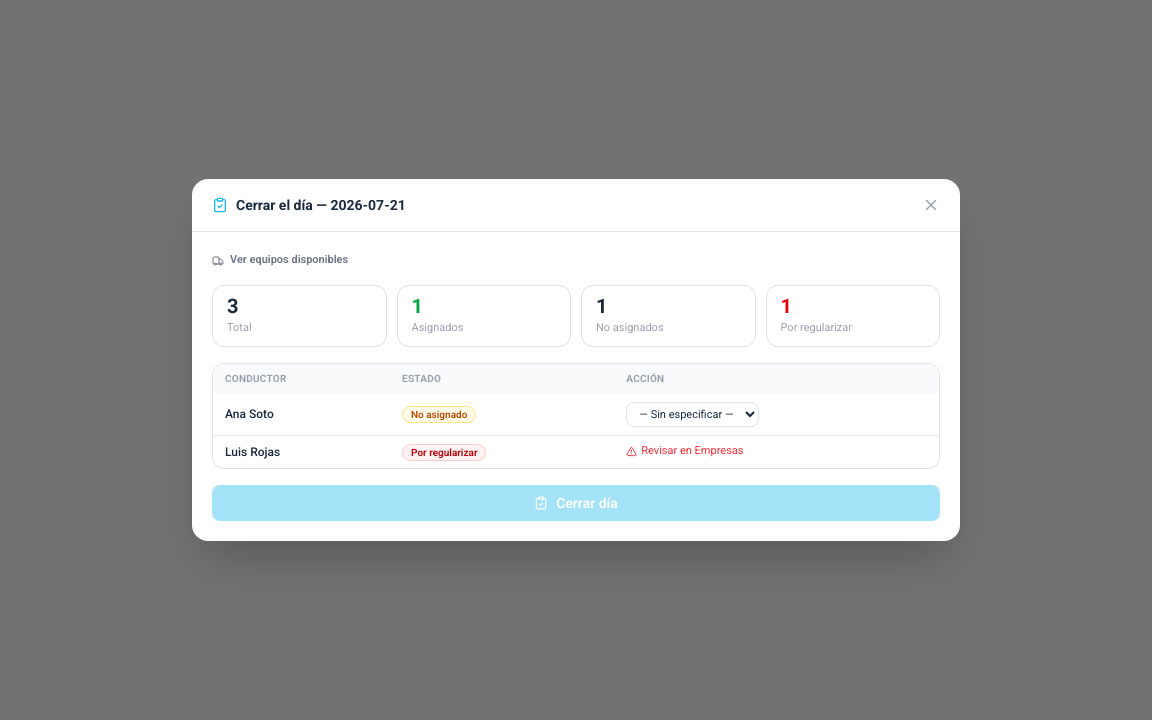
Test: CloseDayDialog › clickear la tile "Asignados" muestra el roster completo de asignados, incluidos los que no requieren acción
Check: the text "Ana Soto" is shown, box [213, 394, 390, 435]
Check: the text "Juan Pérez" is not shown
Click the button "1 Asignados".
click(484, 316)  # box [396, 285, 571, 347]
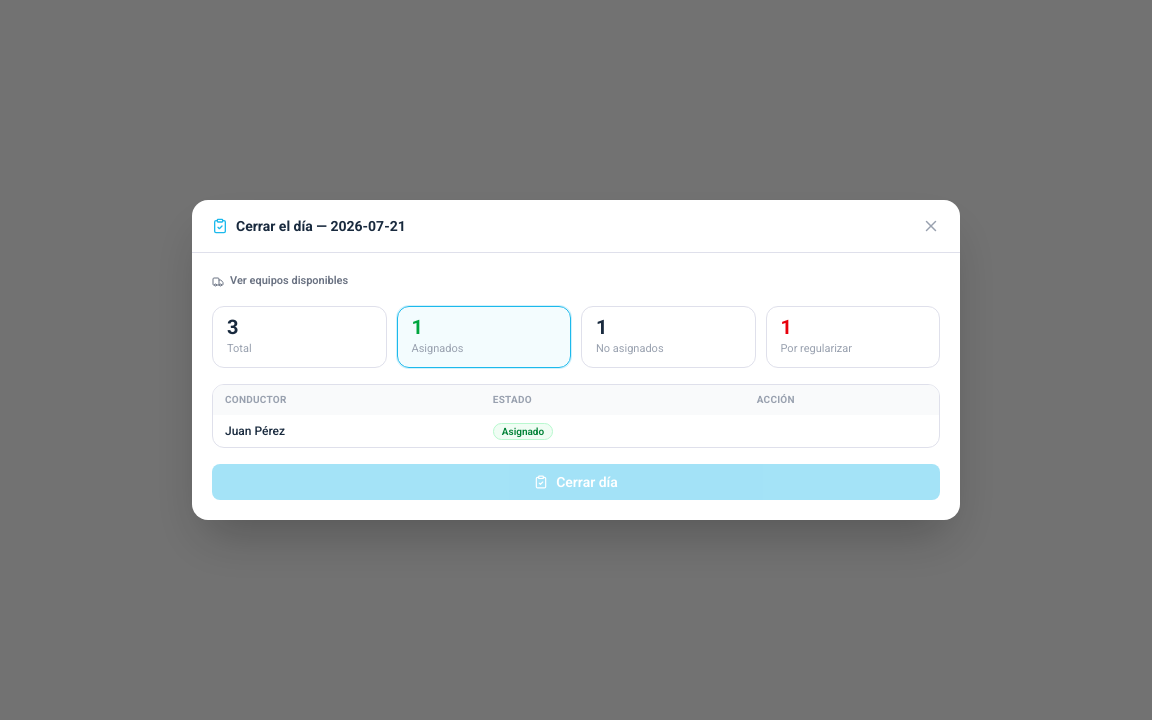
Check: the text "Juan Pérez" is shown, box [213, 415, 481, 447]
